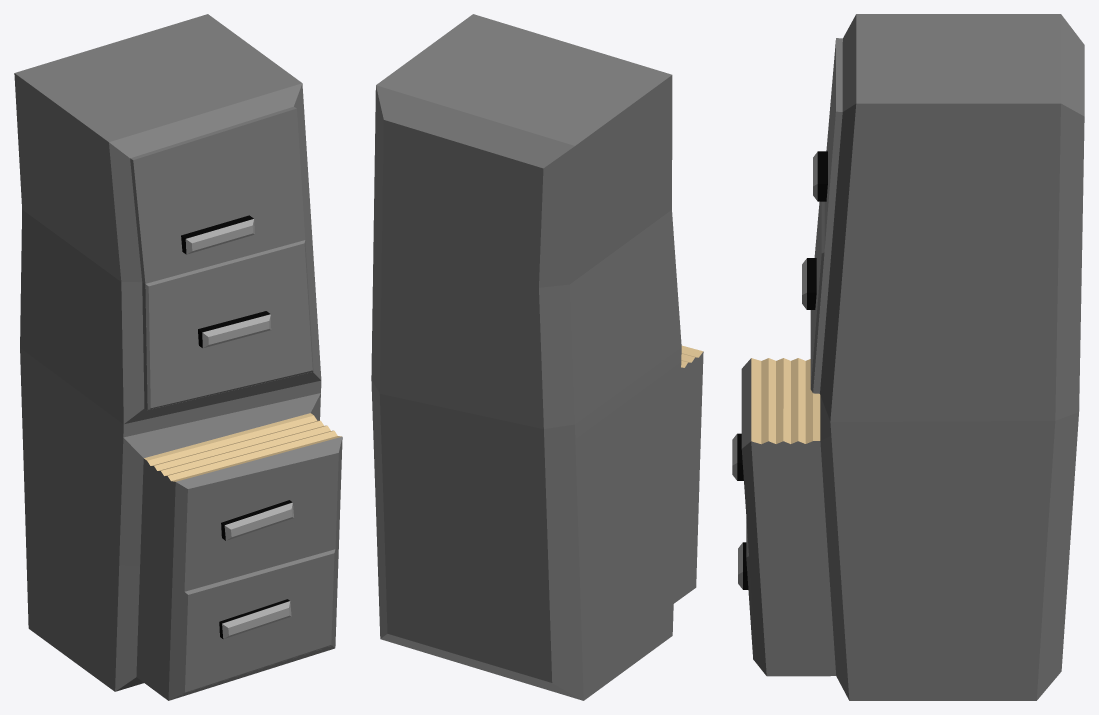
The model's file is SM_Box_office2.fbx.
3 views of the same model, side by side, from view 1: azimuth 30°, elevation 25°; view 2: azimuth 150°, elevation 25°; view 3: azimuth 270°, elevation 25° (orthographic). The views are drawn at different scales.
Visible parts, largest first — view 1: pCube7; view 2: pCube7; view 3: pCube7.
Part boxes in pixels (<box>): pCube7: <box>14,14,342,700</box>; pCube7: <box>371,14,703,700</box>; pCube7: <box>732,14,1084,700</box>.
Size of the model in its own units: 0.6523 by 1.74 by 0.9156.
